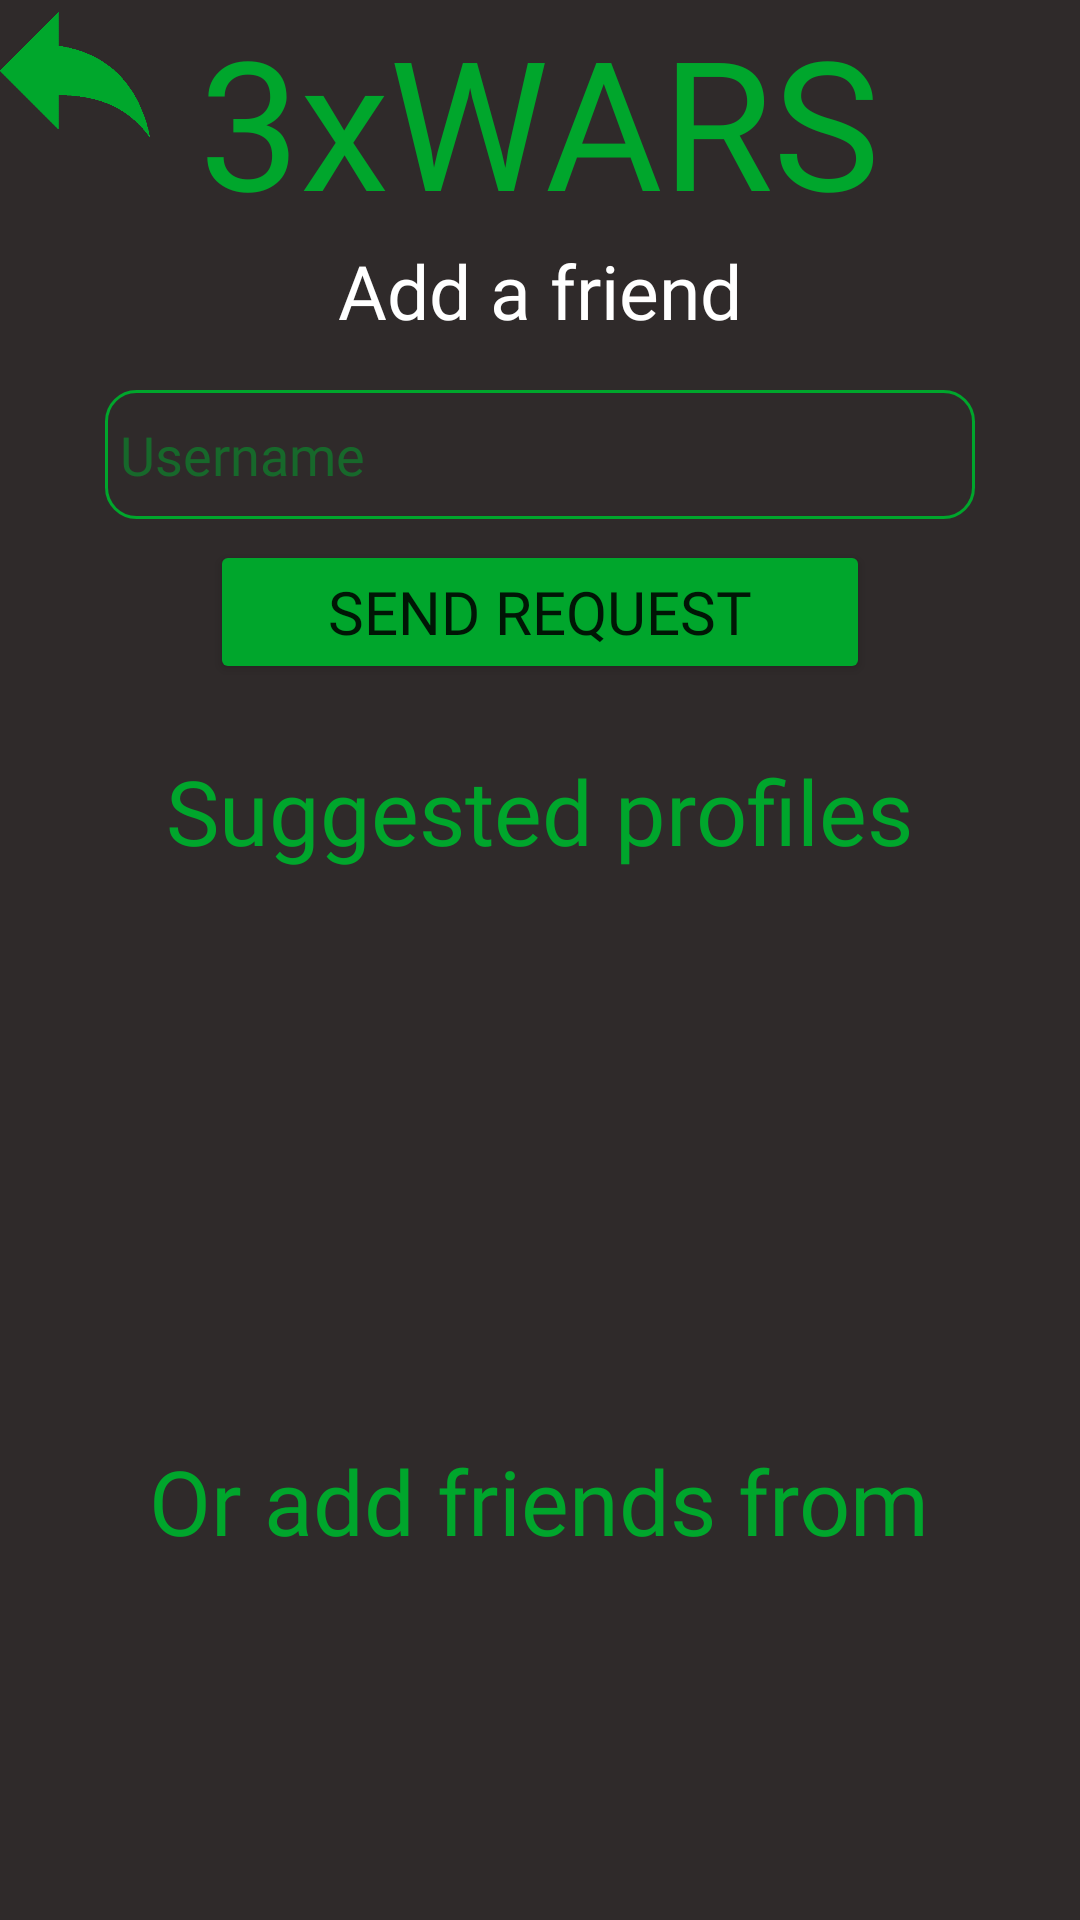

Icon bounding boxes for this 1080 × 1920 phone screenshot, format box(x1, y1, x2, y2):
flecha: box(0, 12, 150, 137)
